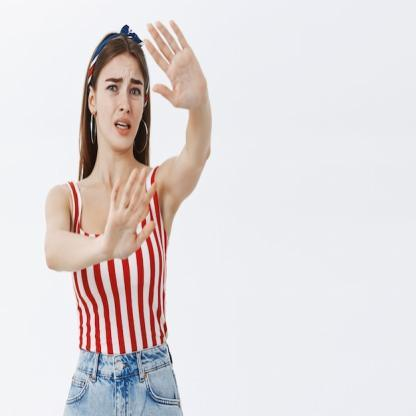stop: (140, 17, 210, 114), (106, 166, 163, 258)
